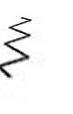resistor: (0, 14, 40, 79)
